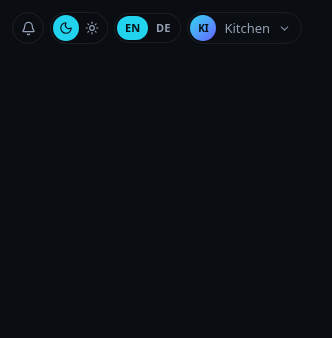
HeaderTools › offers a password sign-in instead of signing out on the home network
Click the button "KI Kitchen" at (245, 28), box [187,12,302,44]
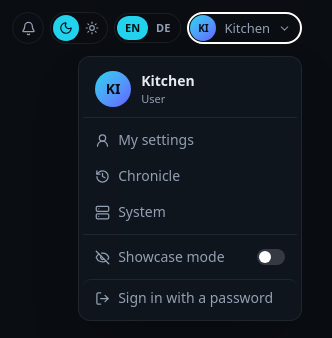
Check: the menu item "Sign in with a password" is shown, box [83,279,297,316]
